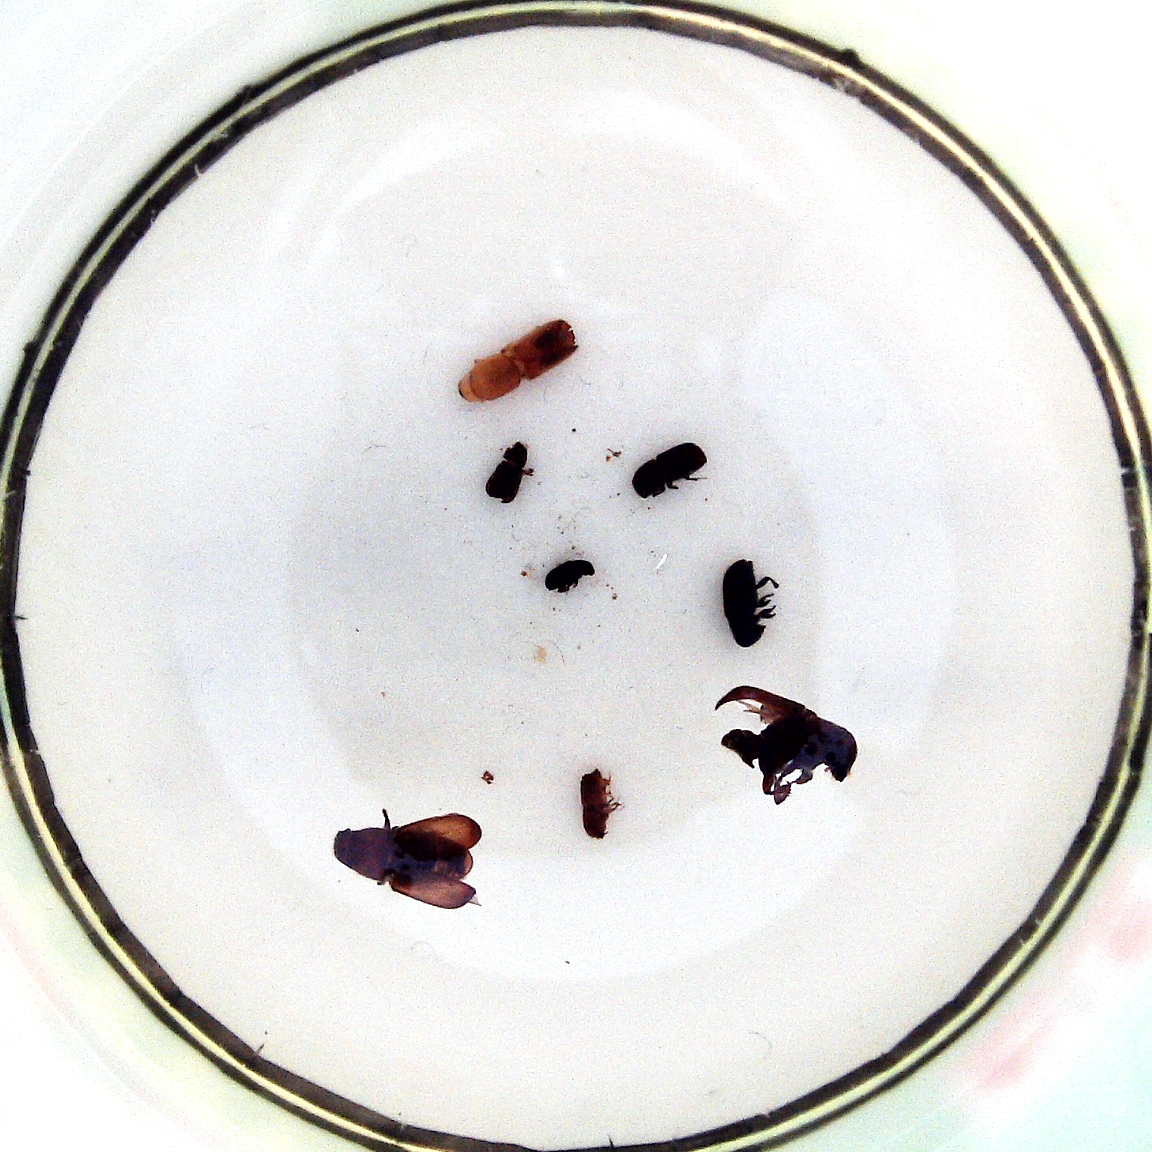Boerner: (458, 319, 575, 404)
Leconte: (334, 827, 474, 892), (759, 712, 857, 795)
acuminatus: (486, 439, 529, 504), (545, 560, 596, 592)
armandi: (723, 558, 767, 649)
coleoptera: (580, 768, 616, 840)
linnaeus: (633, 443, 707, 500)
